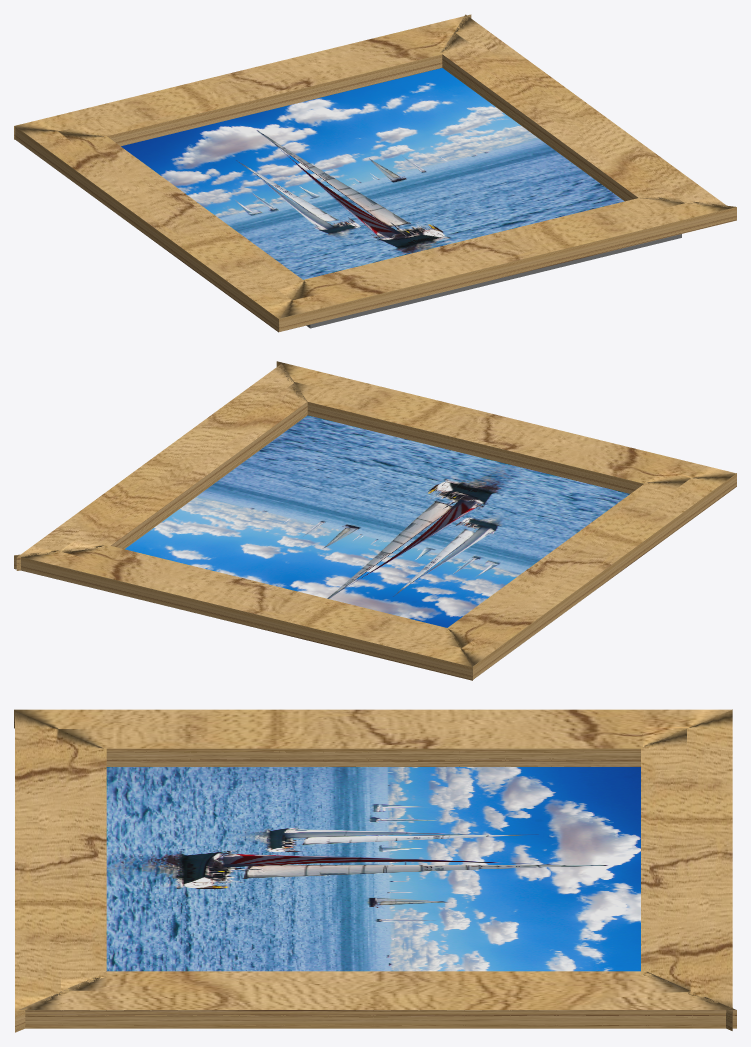
File: pictureFrame.obj
3 views of the same model, one above another, from view 1: azimuth 30°, elevation 25°; view 2: azimuth 150°, elevation 25°; view 3: azimuth 270°, elevation 25° (orthographic). The views are drawn at different scales.
Visible parts, largest first — view 1: pCube2, pasted__pCube1 group1, pasted__pCube1 group, pCube1, pasted__pCube1 group2; view 2: pCube2, pasted__pCube1 group, pasted__pCube1 group1, pCube1, pasted__pCube1 group2; view 3: pCube2, pasted__pCube1 group2, pCube1, pasted__pCube1 group1, pasted__pCube1 group.
Part boxes in pixels (<box>): pCube2: <box>121,68,681,328</box>; pasted__pCube1 group1: <box>279,196,736,331</box>; pasted__pCube1 group: <box>14,14,471,146</box>; pCube1: <box>15,126,303,332</box>; pasted__pCube1 group2: <box>440,14,727,207</box>; pCube2: <box>125,415,629,627</box>; pasted__pCube1 group: <box>14,544,472,680</box>; pasted__pCube1 group1: <box>276,361,734,493</box>; pCube1: <box>448,473,736,679</box>; pasted__pCube1 group2: <box>16,363,307,570</box>; pCube2: <box>106,767,640,971</box>; pasted__pCube1 group2: <box>19,971,736,1028</box>; pCube1: <box>14,709,731,766</box>; pasted__pCube1 group1: <box>15,710,106,1032</box>; pasted__pCube1 group: <box>641,709,732,1030</box>.
Size of the model in its own units: 7.87 by 0.4647 by 7.89.
3 materials, 2 textured.
